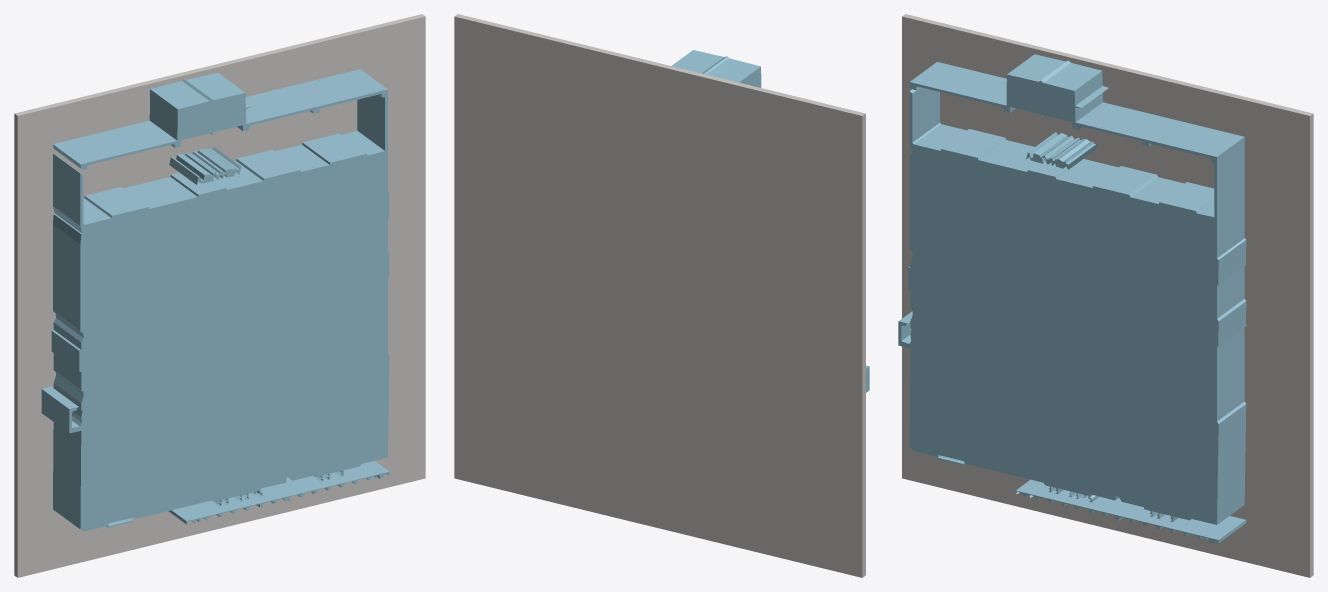
3 renders of one model, left to right at view 1: azimuth 30°, elevation 25°; view 2: azimuth 150°, elevation 25°; view 3: azimuth 330°, elevation 25°, orthographic.
Parts seen in each view (by area): view 1: world; view 2: world; view 3: world.
Boxes of the visible parts, bbox=[...] form: world: bbox=[14, 14, 425, 577]; world: bbox=[454, 14, 869, 577]; world: bbox=[898, 14, 1313, 577].
Bounding box in the file's own units: 10.23 × 11.07 × 1.35.
